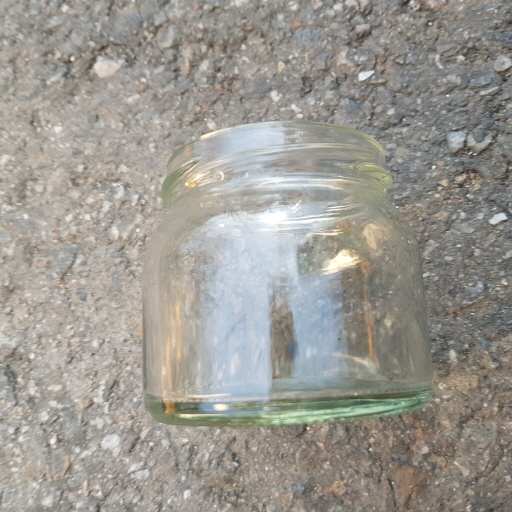Glass_5: (137, 122, 439, 425)
